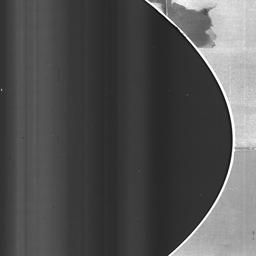Crescent gap: (147, 3, 232, 256)
